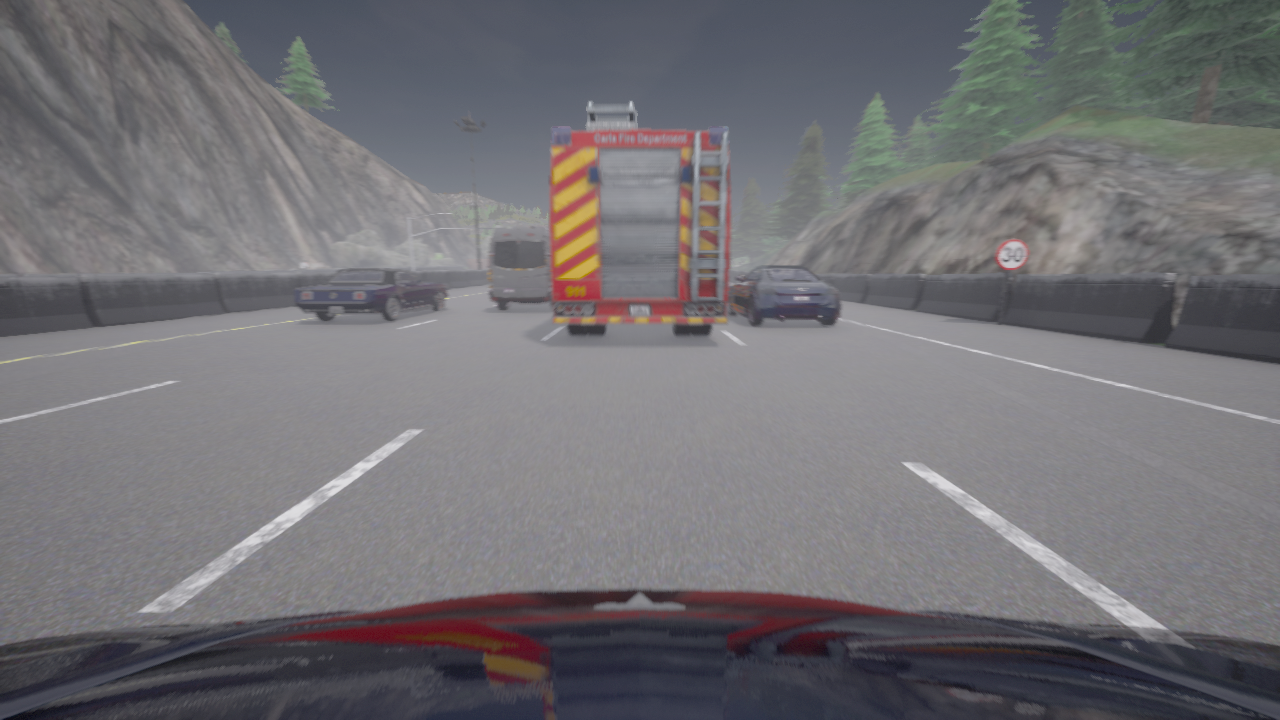cyclist: (0, 588, 1279, 719), (549, 102, 730, 335), (294, 269, 447, 321), (728, 265, 840, 325), (489, 226, 552, 309)
